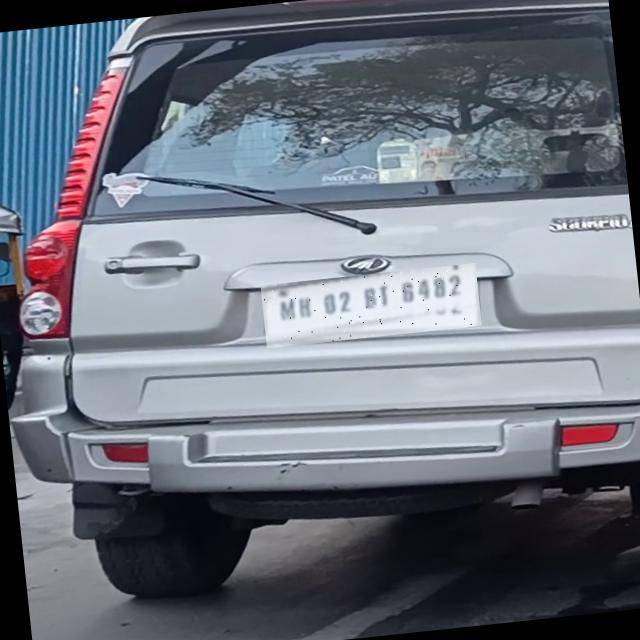Plate: (261, 264, 482, 349)
